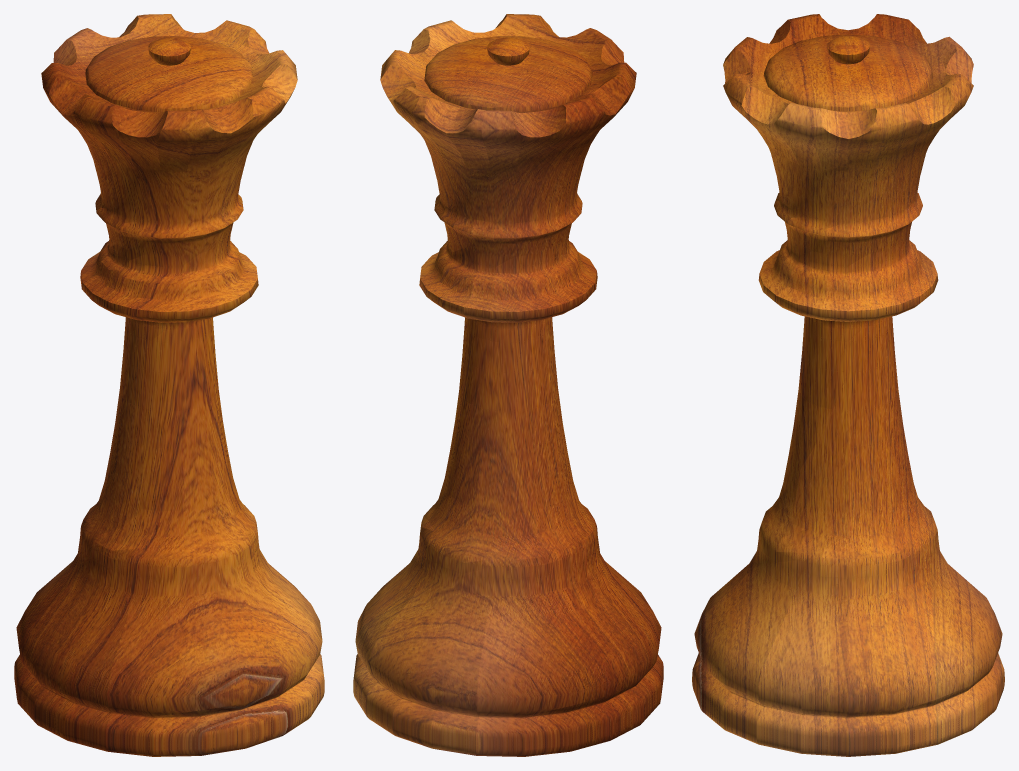
The model's file is branco-rainha.obj.
3 views of the same model, side by side, from view 1: azimuth 30°, elevation 25°; view 2: azimuth 150°, elevation 25°; view 3: azimuth 270°, elevation 25° (orthographic).
Visible parts, largest first — view 1: REGINA2; view 2: REGINA2; view 3: REGINA2.
Part boxes in pixels (left/top/right/bottom): REGINA2: left=14, top=14, right=324, bottom=756; REGINA2: left=353, top=14, right=663, bottom=756; REGINA2: left=692, top=14, right=1004, bottom=756.
Size of the model in its own units: 186 by 429 by 186.
1 material, 1 textured.
